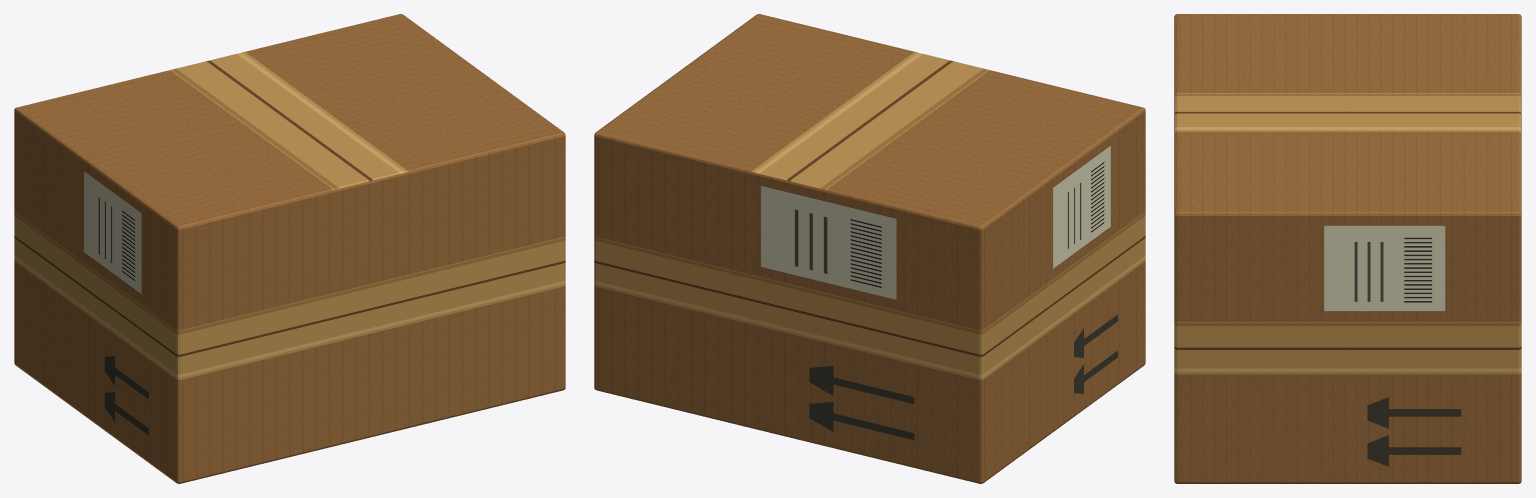
File: SM_DeliveryBox.fbx
3 renders of one model, left to right at view 1: azimuth 30°, elevation 25°; view 2: azimuth 150°, elevation 25°; view 3: azimuth 270°, elevation 25°, orthographic. The views are drawn at different scales.
Parts seen in each view (by area): view 1: SM_DeliveryBox; view 2: SM_DeliveryBox; view 3: SM_DeliveryBox.
Boxes of the visible parts, left/top/right/bottom form: SM_DeliveryBox: left=14, top=14, right=565, bottom=483; SM_DeliveryBox: left=594, top=14, right=1145, bottom=483; SM_DeliveryBox: left=1174, top=14, right=1521, bottom=483.
Bounding box in the file's own units: 60 × 44 × 38.
Materials: 1 (1 with a texture image).
